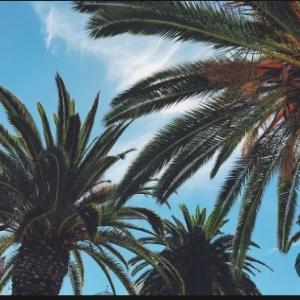palm tree: (67, 0, 299, 295), (0, 70, 178, 295), (128, 203, 272, 295)
